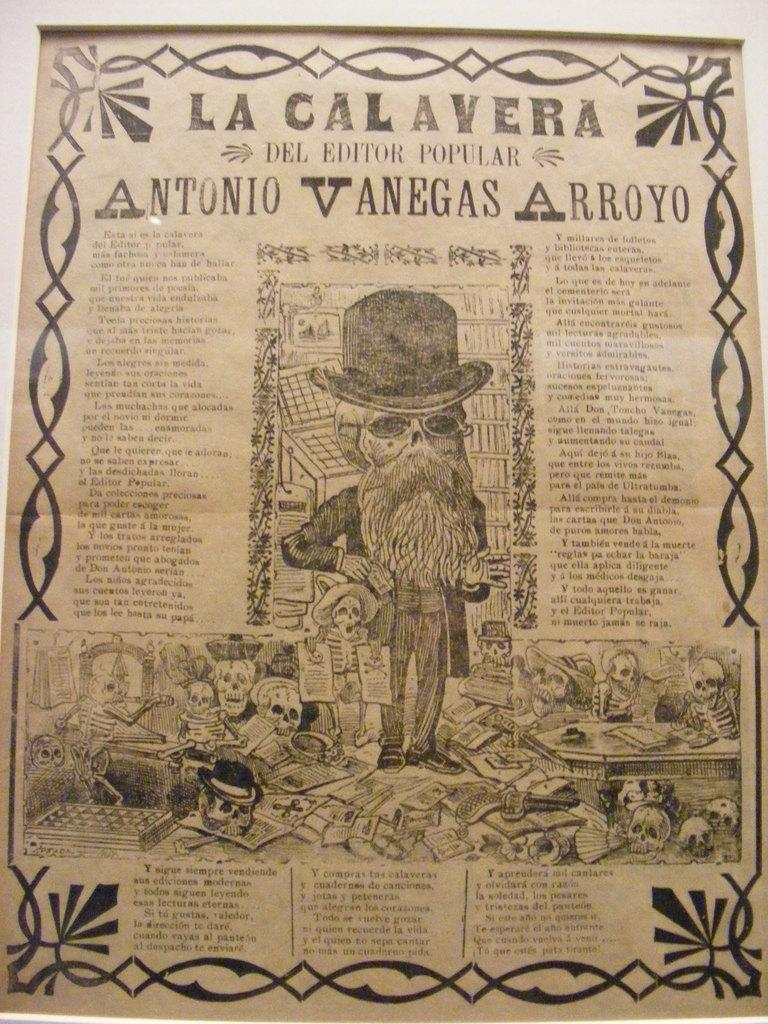Hat: (309, 287, 497, 416), (199, 756, 266, 808)
